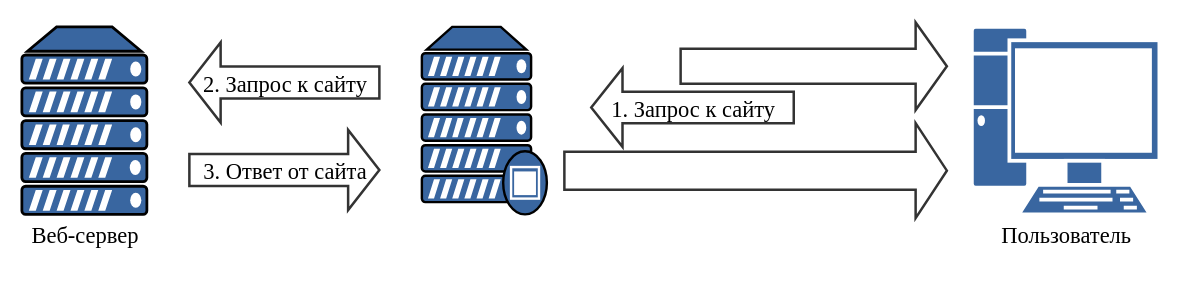
Image size: 1181x299. Some labels were removed from this diagram. The shapes that lost their labels are listed below. From the top down, each one's centre as x and y in pixels, then its label:
At [813,66]: "2*. Отклонение запроса".
At [484,120]: "Веб прокси-сервер".
At [755,170]: "4. Ответ от сайта/отклонение ответа".
